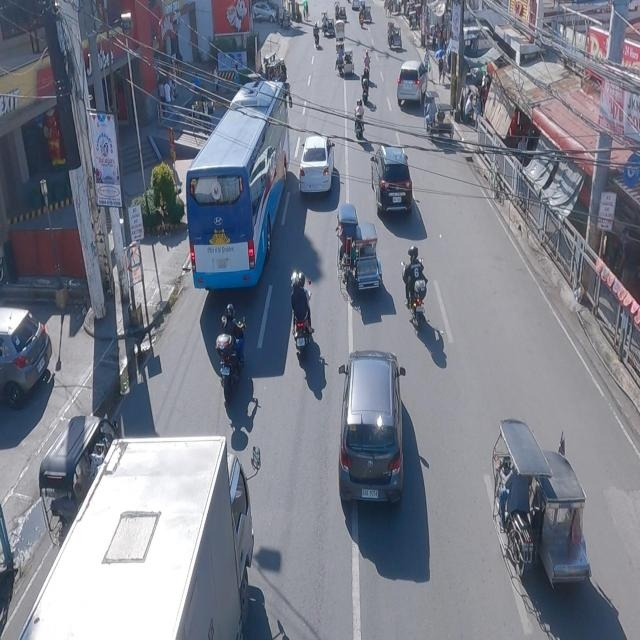Bus: (190, 67, 295, 299)
Motorcycle: (212, 296, 252, 398), (402, 236, 430, 319), (292, 262, 315, 358)
Truck: (14, 435, 263, 640)
